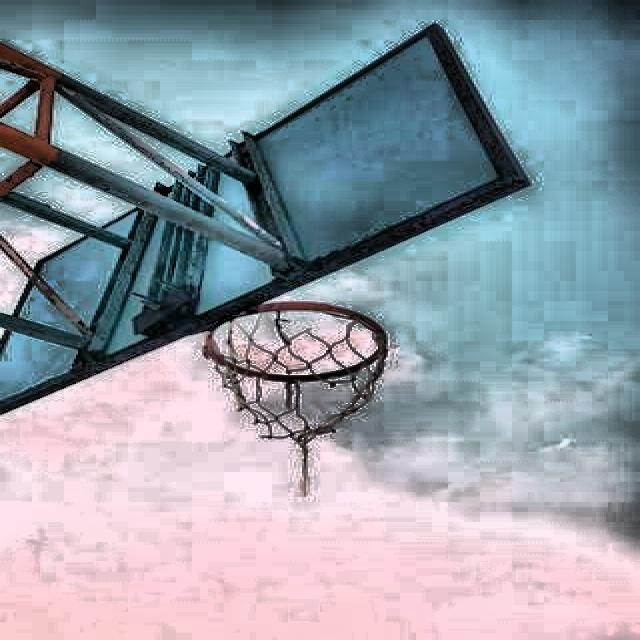rim: (205, 302, 393, 442)
